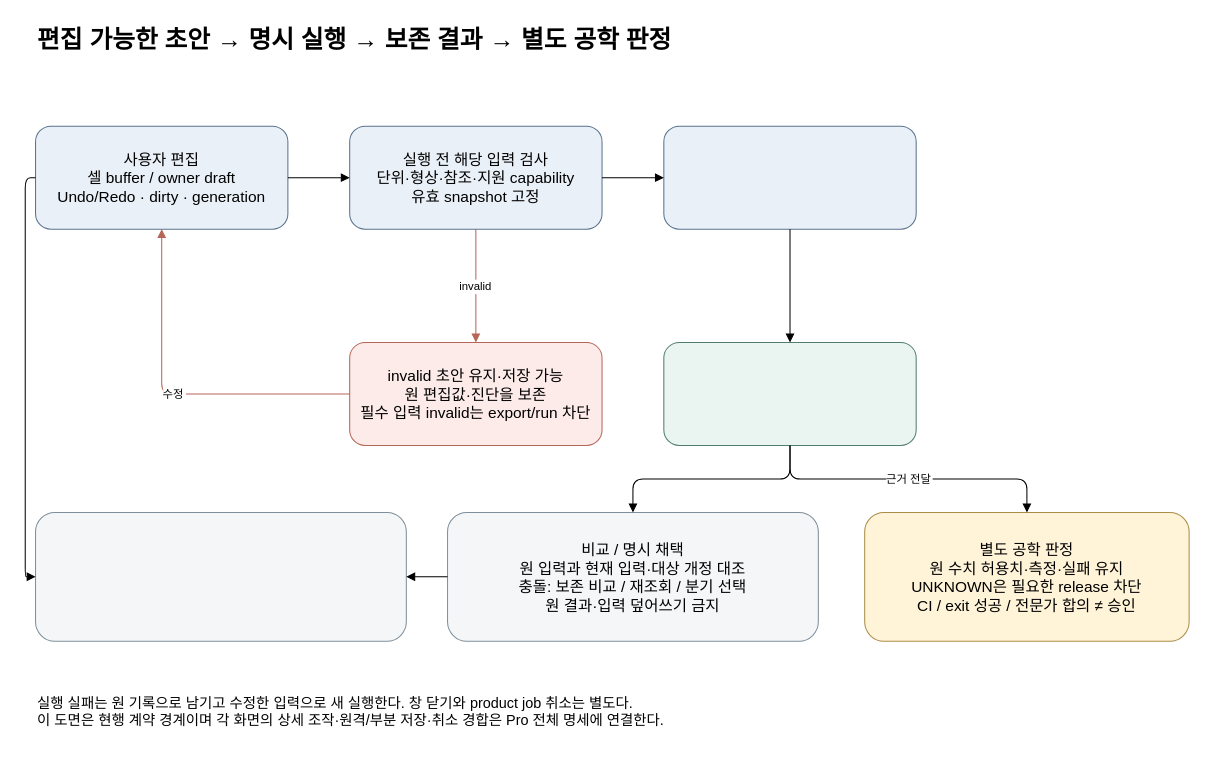
Some shapes in this 1207 by 766 pixel diagram are drawn without their labels. Here are the shapes that lost their labels. From the top down, the box of each, then its label:
(663, 125, 916, 229): 사용자가 명시 실행 새 run ID / store 선택 attempt의 상태·취소·진단
(663, 341, 916, 445): 원 입력에 결과 보존 완료 / 실패 / 취소 / 중단 늦은 결과도 원 입력에 남김
(35, 511, 406, 641): 사용자 저장 / 재열기 원자료·정확한 참조·결과·개정 보존 부분 실패: 이전 저장본·dirty 유지 열기만으로 계산하지 않음
